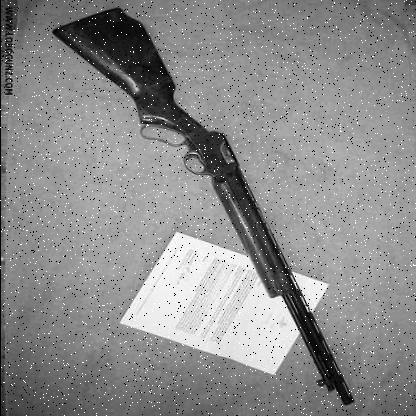rifle: (42, 9, 373, 409)
